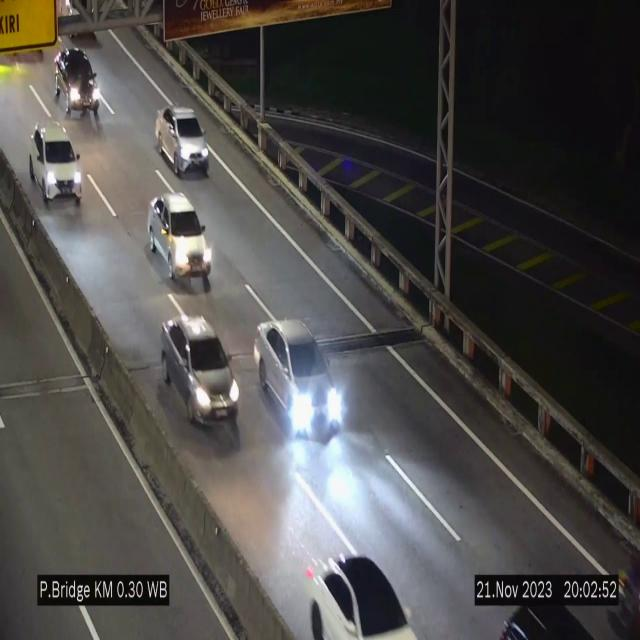Car: (300, 518, 418, 640), (252, 314, 346, 447), (160, 316, 240, 427), (147, 194, 212, 288), (30, 123, 80, 204), (155, 106, 209, 176), (52, 41, 100, 116)
